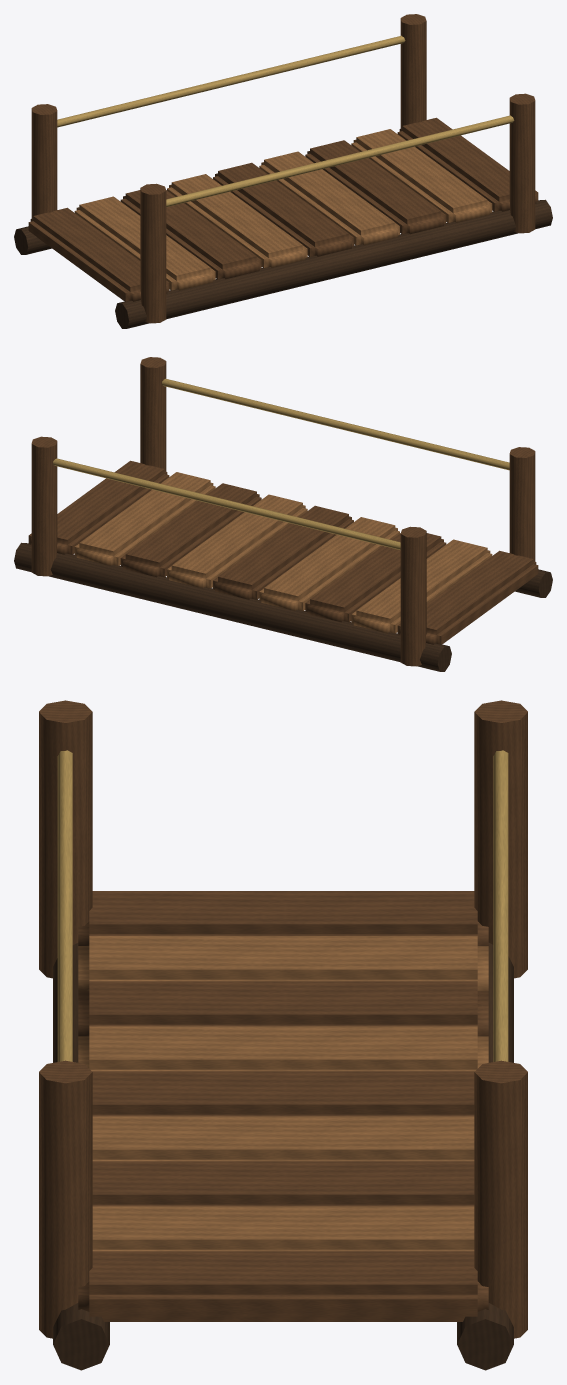
The model's file is footbridge.fbx.
3 views of the same model, one above another, from view 1: azimuth 30°, elevation 25°; view 2: azimuth 150°, elevation 25°; view 3: azimuth 270°, elevation 25° (orthographic). The views are drawn at different scales.
Visible parts, largest first — view 1: footbridge__Geometry; view 2: footbridge__Geometry; view 3: footbridge__Geometry.
Part boxes in pixels (x1,y1,x2,y2): footbridge__Geometry: (14,14,552,328); footbridge__Geometry: (14,357,552,671); footbridge__Geometry: (39,700,527,1370).
Bounding box in the file's own units: 3.1 × 0.95 × 1.55.
